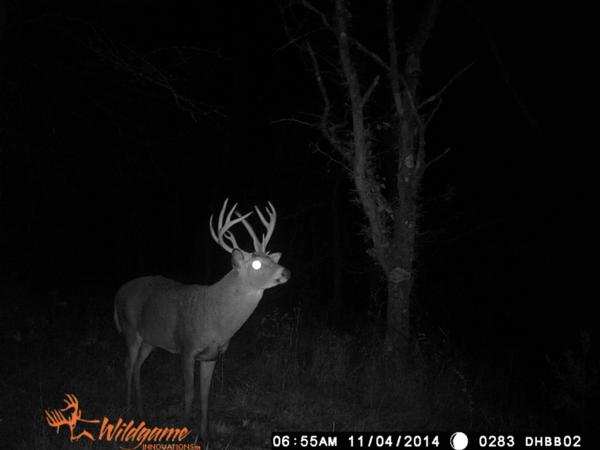raccoon: (100, 189, 286, 418)
